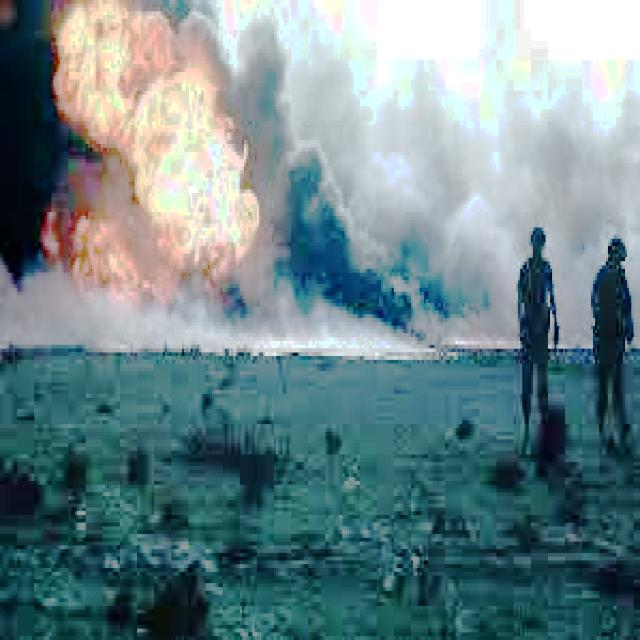api: (64, 4, 245, 300)
asap: (263, 38, 498, 369), (490, 4, 640, 232), (1, 10, 59, 344), (64, 295, 260, 366), (559, 230, 595, 349)
